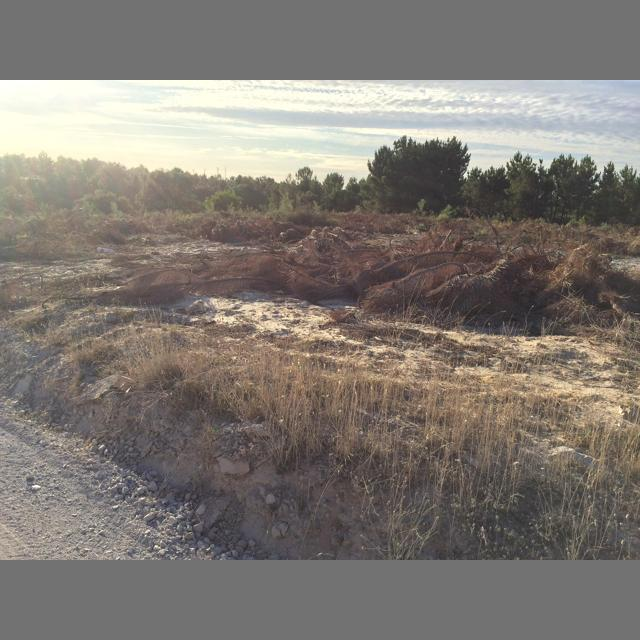litter: (97, 247, 116, 253)
